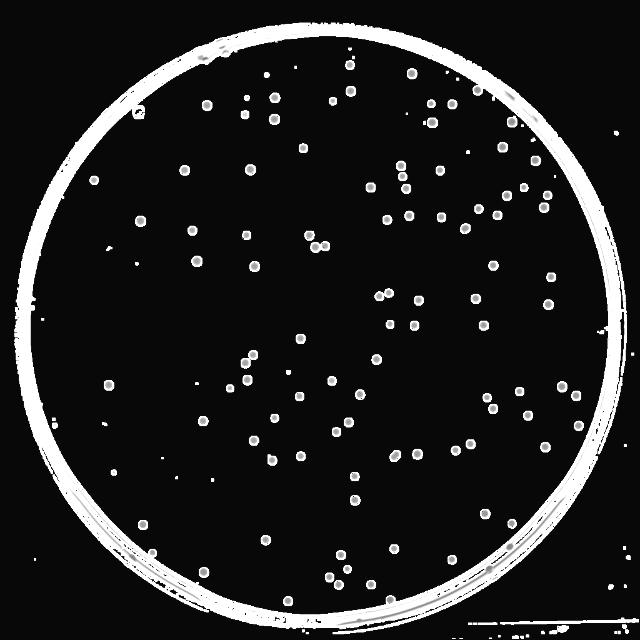colony: (134, 215, 148, 228), (190, 255, 203, 268), (250, 260, 262, 274), (388, 448, 400, 462), (544, 270, 558, 282), (200, 100, 213, 112), (426, 115, 439, 127), (406, 68, 419, 80), (89, 174, 101, 186), (180, 164, 192, 176), (245, 163, 257, 175), (364, 181, 376, 193), (248, 434, 260, 446), (355, 390, 367, 402), (350, 495, 362, 507), (198, 566, 210, 578), (187, 226, 199, 237), (242, 230, 252, 242), (304, 229, 314, 241), (310, 242, 320, 254), (270, 113, 280, 125), (242, 374, 252, 386), (267, 456, 279, 466), (465, 438, 475, 450), (372, 353, 382, 365), (480, 507, 490, 519), (570, 390, 582, 400), (557, 382, 567, 394), (542, 300, 554, 310), (498, 142, 508, 154), (505, 117, 517, 127), (346, 60, 358, 70), (346, 85, 356, 97), (104, 378, 114, 390), (327, 376, 338, 386), (344, 417, 354, 428), (412, 448, 422, 459), (471, 294, 482, 304), (437, 212, 448, 222), (448, 554, 457, 566), (446, 102, 459, 110), (240, 110, 250, 120), (240, 358, 250, 368), (350, 472, 360, 482), (451, 446, 461, 456), (488, 404, 498, 414), (522, 410, 532, 420), (386, 320, 396, 330), (374, 292, 384, 302), (488, 262, 498, 272), (138, 520, 148, 530), (335, 550, 345, 560), (366, 581, 376, 591), (385, 594, 395, 604), (574, 421, 584, 431), (403, 211, 413, 221), (530, 156, 540, 166), (426, 100, 436, 110), (270, 92, 280, 102), (300, 141, 308, 153), (516, 386, 524, 398), (284, 594, 292, 606), (544, 190, 552, 202), (395, 162, 407, 170), (472, 86, 484, 94), (322, 242, 331, 252), (270, 413, 280, 422), (333, 426, 342, 436), (383, 214, 392, 224), (460, 224, 470, 233), (296, 391, 304, 402), (298, 451, 306, 462), (401, 186, 412, 194), (398, 172, 409, 180), (540, 444, 552, 451), (296, 333, 304, 343), (248, 351, 258, 359), (198, 417, 208, 425), (483, 393, 491, 403), (409, 321, 419, 329), (413, 296, 423, 304), (384, 287, 392, 297), (262, 536, 272, 544), (323, 574, 333, 582), (336, 580, 344, 590), (390, 544, 400, 552), (502, 192, 512, 200), (480, 320, 488, 328), (508, 520, 516, 528), (475, 204, 483, 212), (493, 211, 501, 219), (436, 166, 444, 174), (263, 71, 271, 79), (329, 96, 336, 105), (227, 384, 233, 392), (149, 550, 157, 556), (520, 183, 526, 191), (540, 204, 546, 212), (111, 467, 117, 475), (506, 544, 512, 550), (51, 424, 59, 428), (345, 565, 349, 571), (486, 566, 492, 570), (245, 95, 249, 101), (224, 51, 228, 55)
